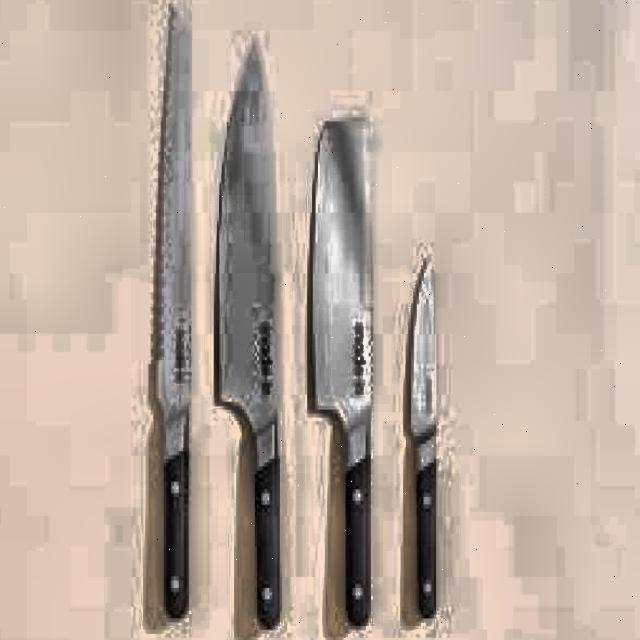knife: (212, 37, 290, 637), (310, 109, 384, 637), (151, 0, 196, 623), (404, 249, 442, 620)
